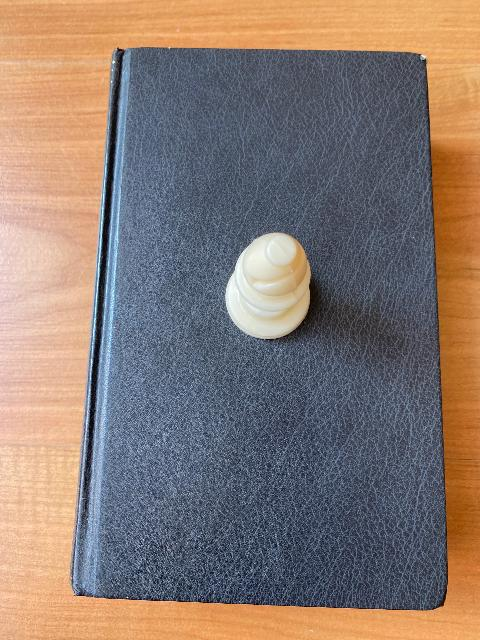white-bishop: (226, 230, 312, 340)
